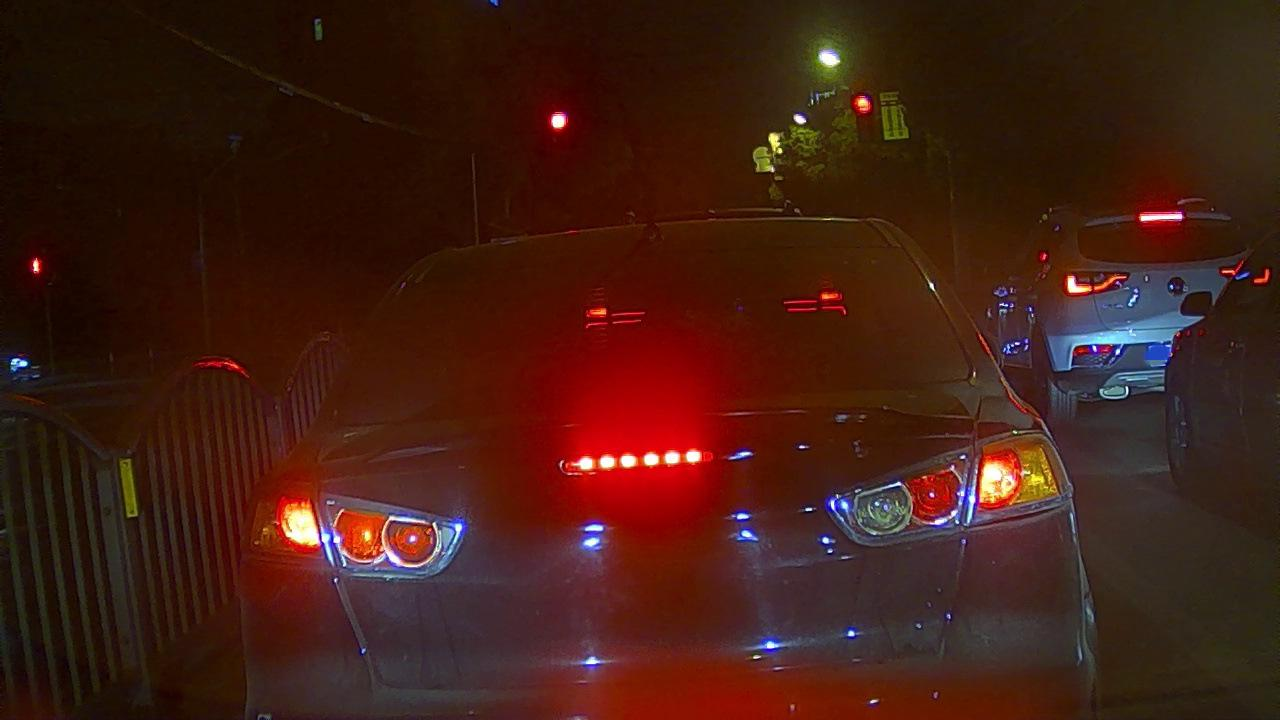traffic_light: (850, 92, 876, 143), (546, 108, 570, 135)
